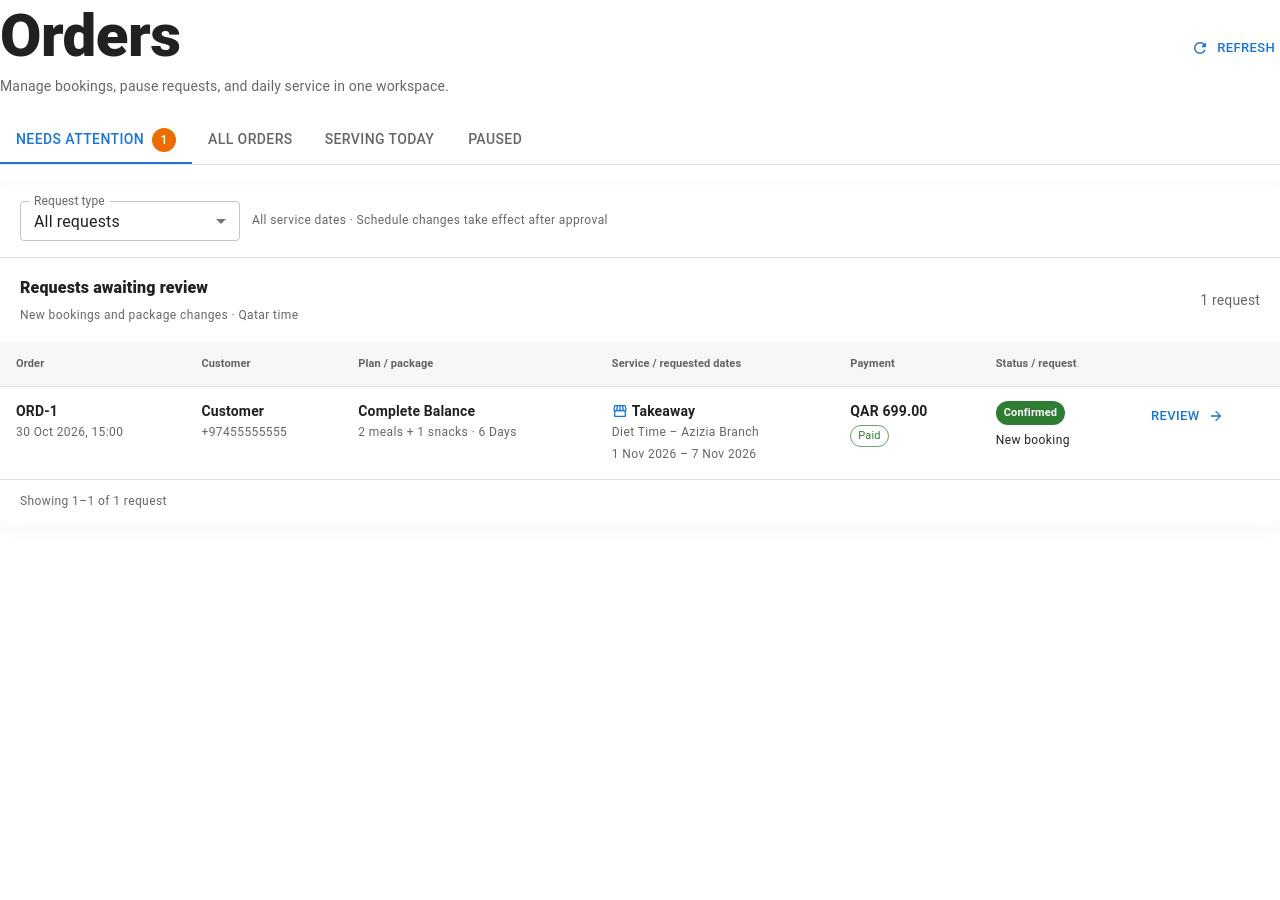
Staff order review › accepts an optional reason and requires explicit confirmation to cancel a confirmed order
Click the button "Review" at (1186, 416), box [1146,401,1227,432]
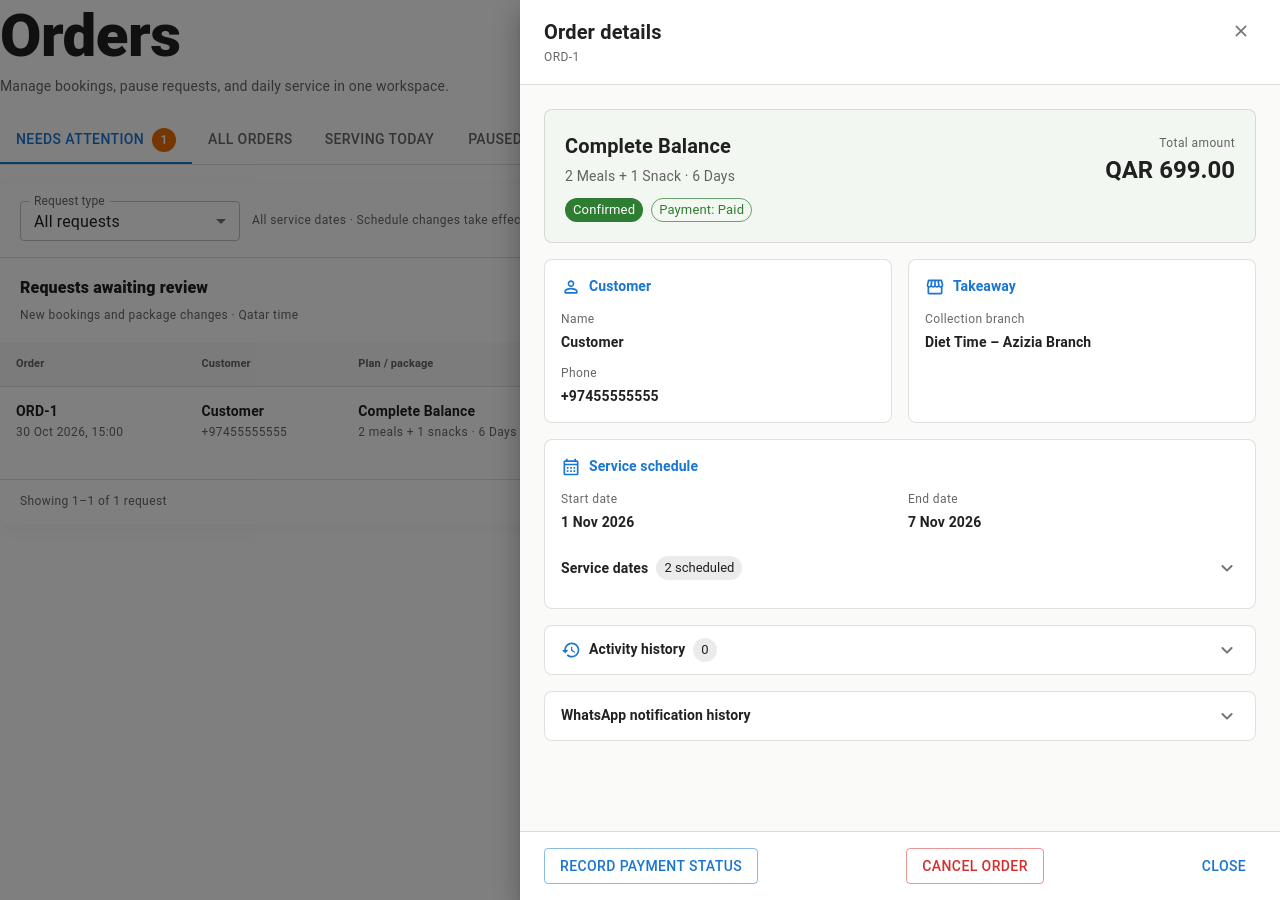
Click the button "Cancel Order" at (975, 866), box [906,848,1044,884]
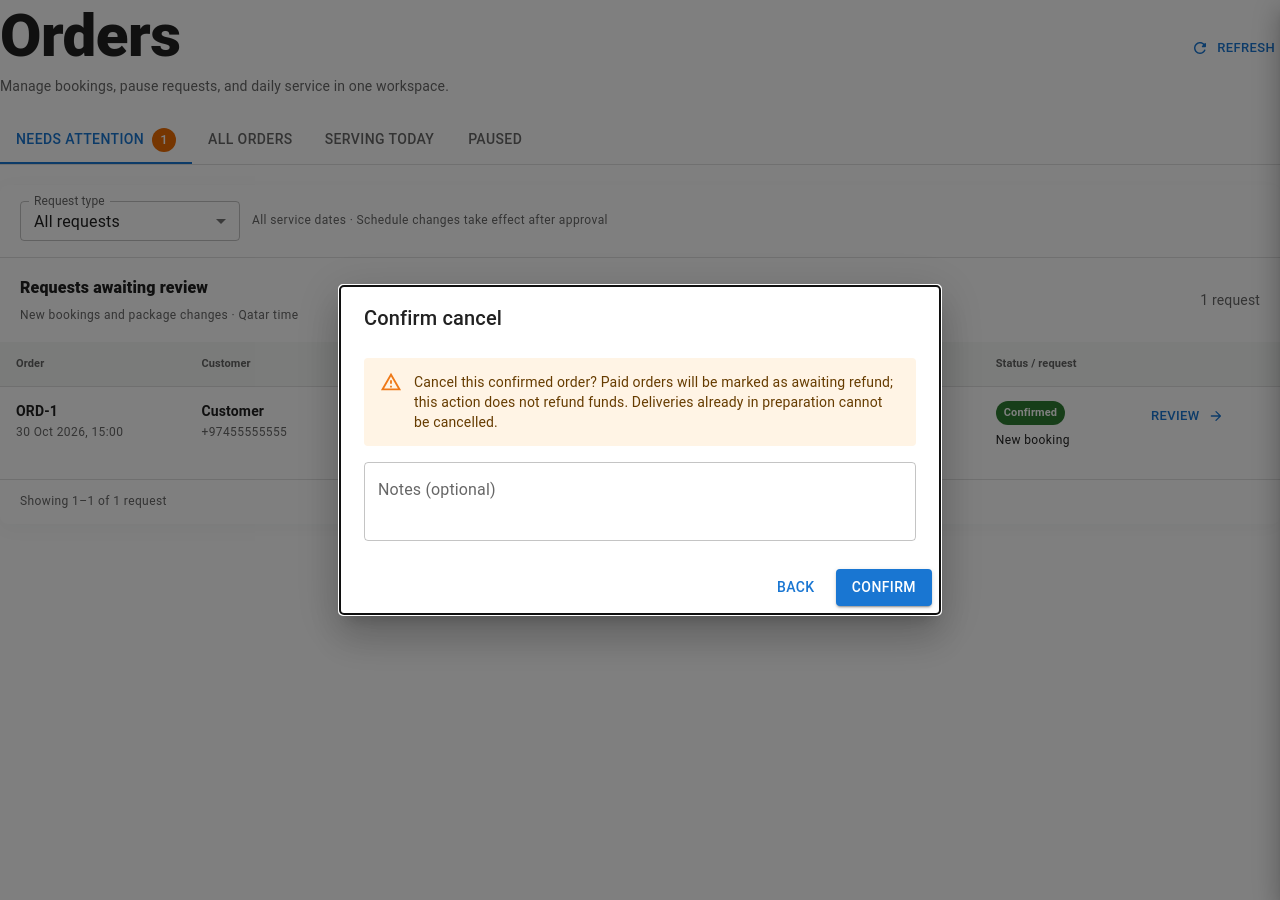
Now the button "Confirm" is enabled, box [836,569,932,606]
Type "Customer requested cancellation" into the text box labelled "Notes (optional)" at (640, 502), box [378,479,902,525]
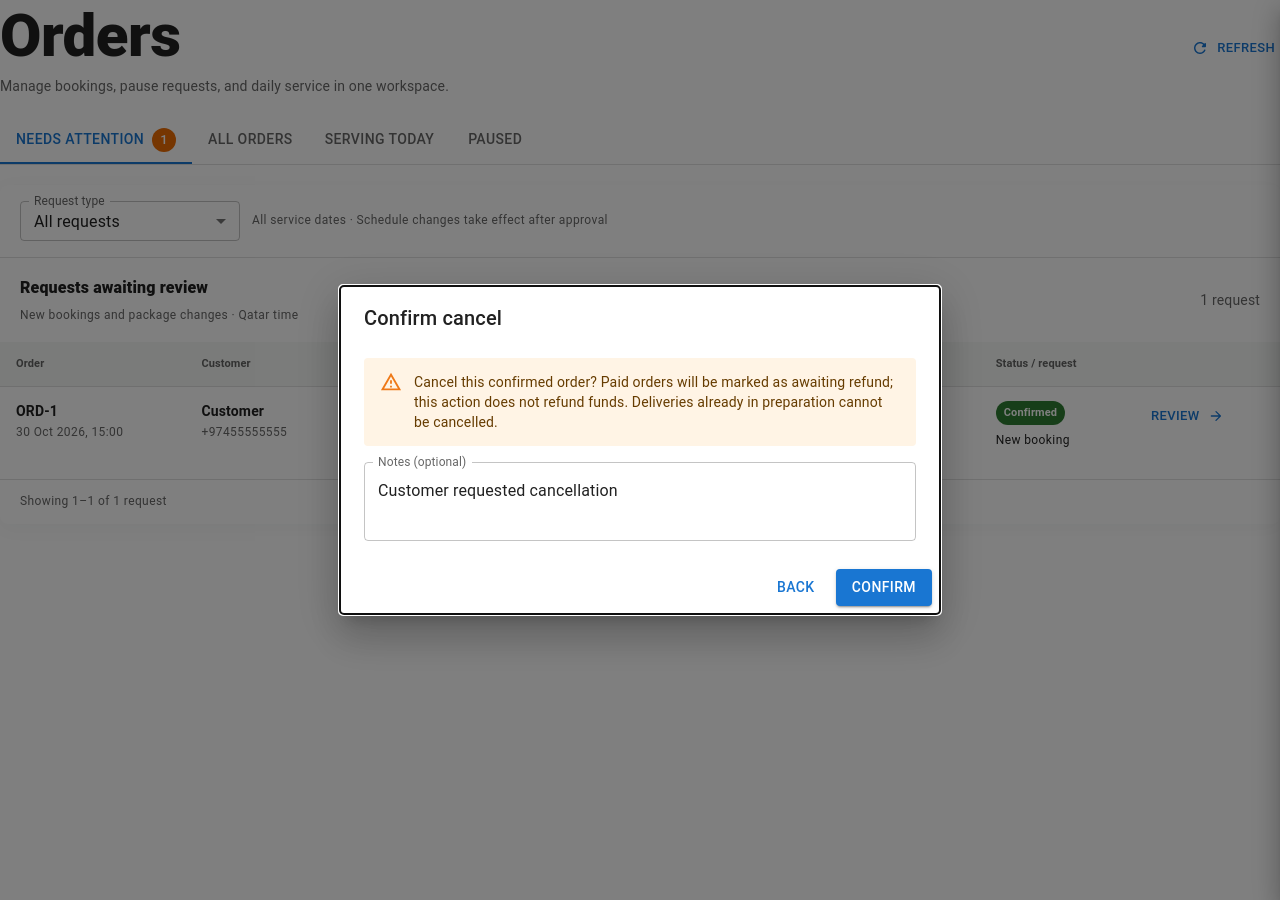
Click the button "Confirm" at (884, 588), box [836,569,932,606]
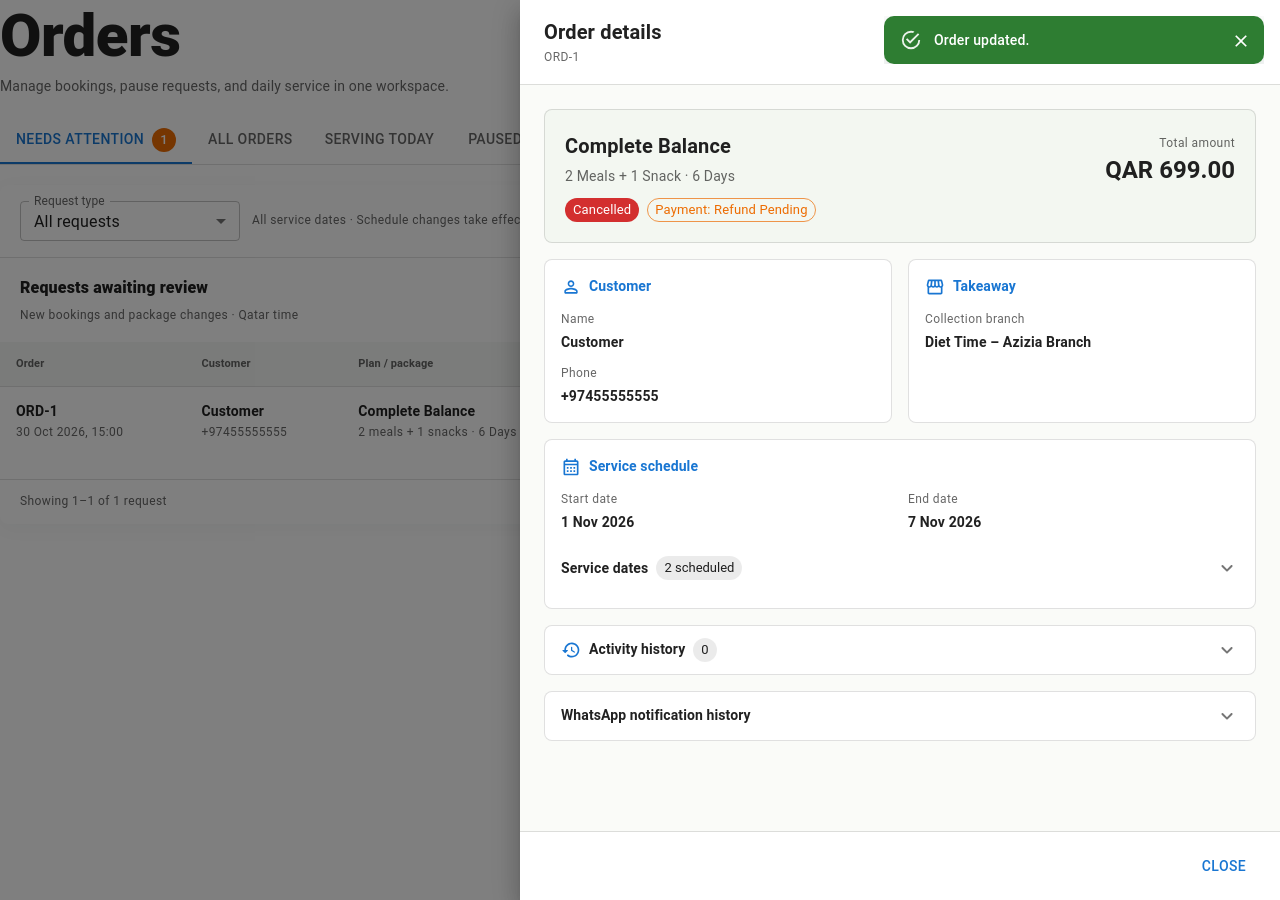
Now the text "Order updated." is shown, box [934,32,1030,48]
Now the button "Cancel Order" is gone
